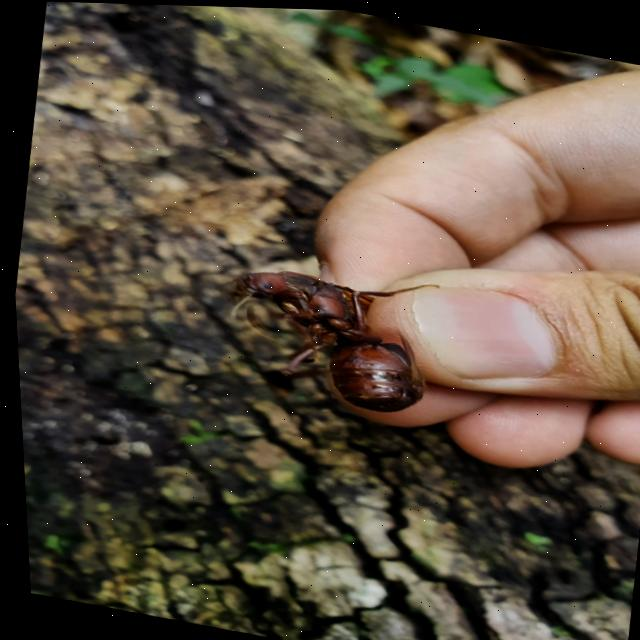Alive-Female-Alate: (196, 243, 441, 419)
